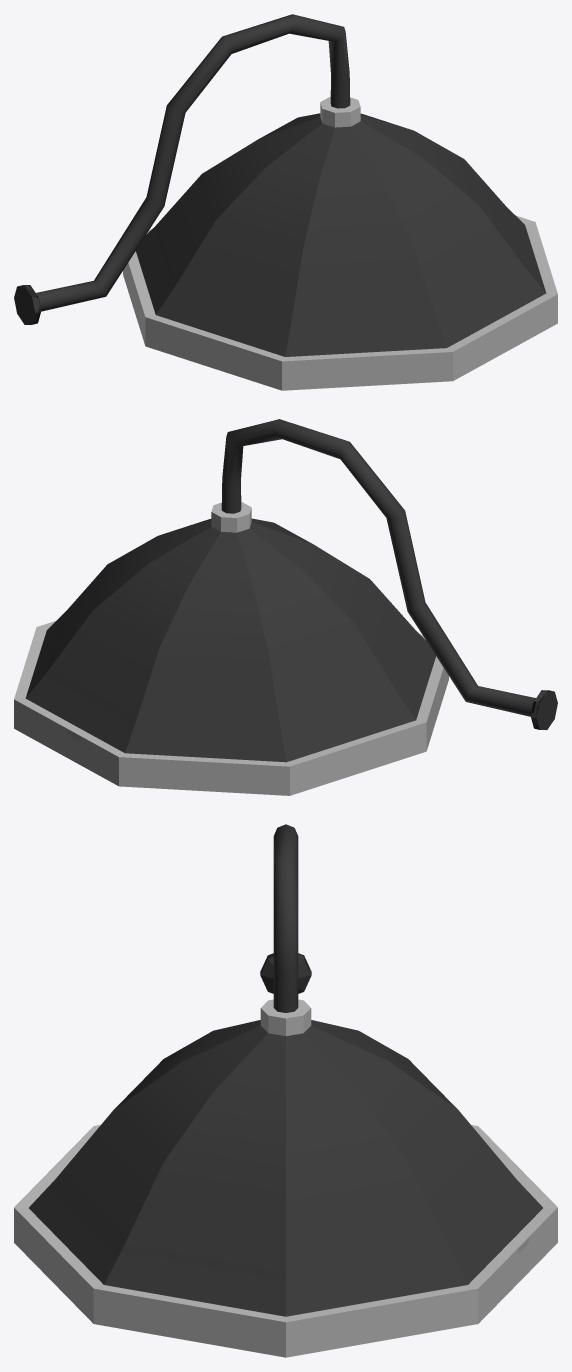
The model's file is Wall_Light.fbx.
3 renders of one model, top to bottom at view 1: azimuth 30°, elevation 25°; view 2: azimuth 150°, elevation 25°; view 3: azimuth 270°, elevation 25°, orthographic. The views are drawn at different scales.
Visible parts, largest first — view 1: pCylinder2; view 2: pCylinder2; view 3: pCylinder2.
Boxes of the visible parts, bbox=[...] form: pCylinder2: bbox=[14, 14, 557, 390]; pCylinder2: bbox=[14, 419, 557, 795]; pCylinder2: bbox=[14, 824, 557, 1357].
Bounding box in the file's own units: 325 × 180 × 248.
1 material, 1 textured.
